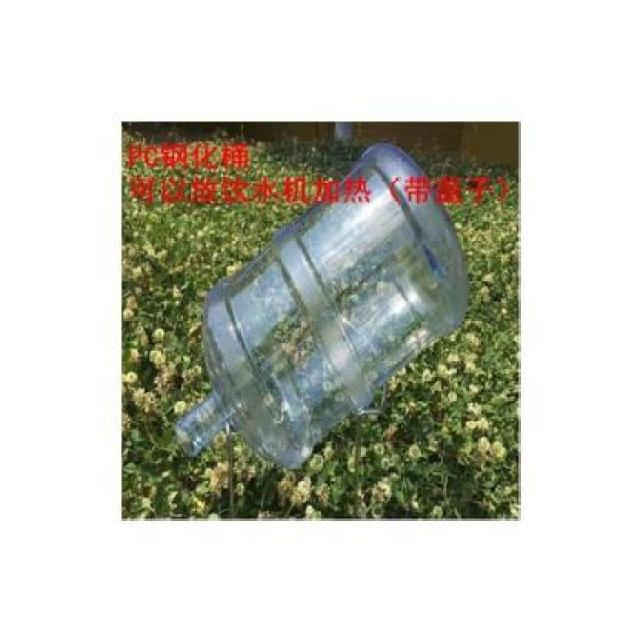coolerbottle: (171, 140, 474, 476)
